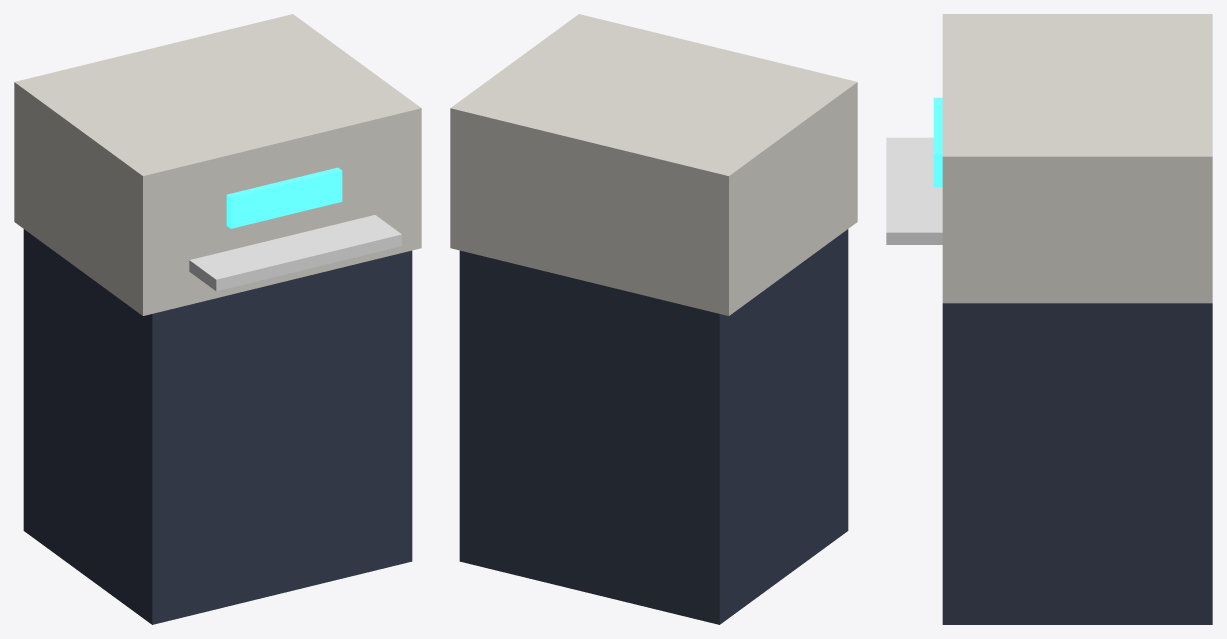
File: printer.glb
3 views of the same model, side by side, from view 1: azimuth 30°, elevation 25°; view 2: azimuth 150°, elevation 25°; view 3: azimuth 270°, elevation 25° (orthographic). The views are drawn at different scales.
Visible parts, largest first — view 1: stand, printer, tray, screen; view 2: stand, printer; view 3: stand, printer, tray, screen.
Part boxes in pixels (x1,y1,x2,y2): stand: [23, 229, 412, 624]; printer: [14, 14, 421, 315]; tray: [189, 215, 401, 291]; screen: [226, 167, 342, 228]; stand: [459, 229, 848, 624]; printer: [450, 14, 857, 315]; stand: [942, 303, 1212, 624]; printer: [942, 14, 1212, 303]; tray: [886, 137, 942, 244]; screen: [933, 97, 942, 187].
Bounding box in the file's own units: 0.75 × 1.16 × 0.725.
